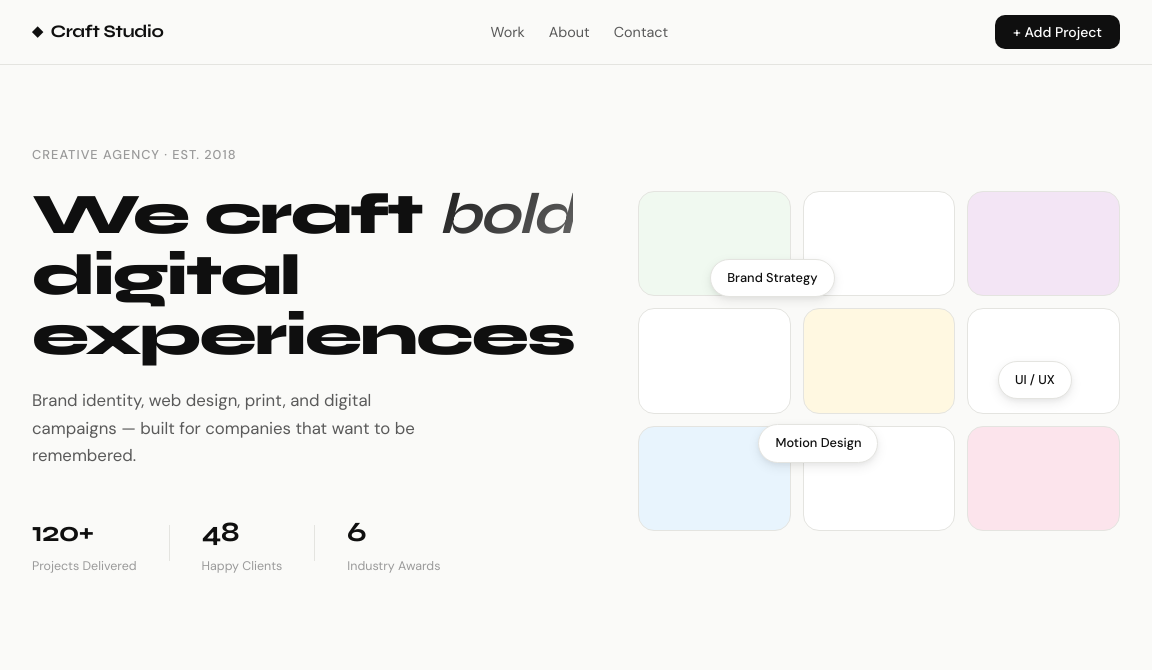
it: App integration › adds a new project and displays it on the page
Click the button "+ Add Project" at x=1058, y=32, box [995,15,1120,49]
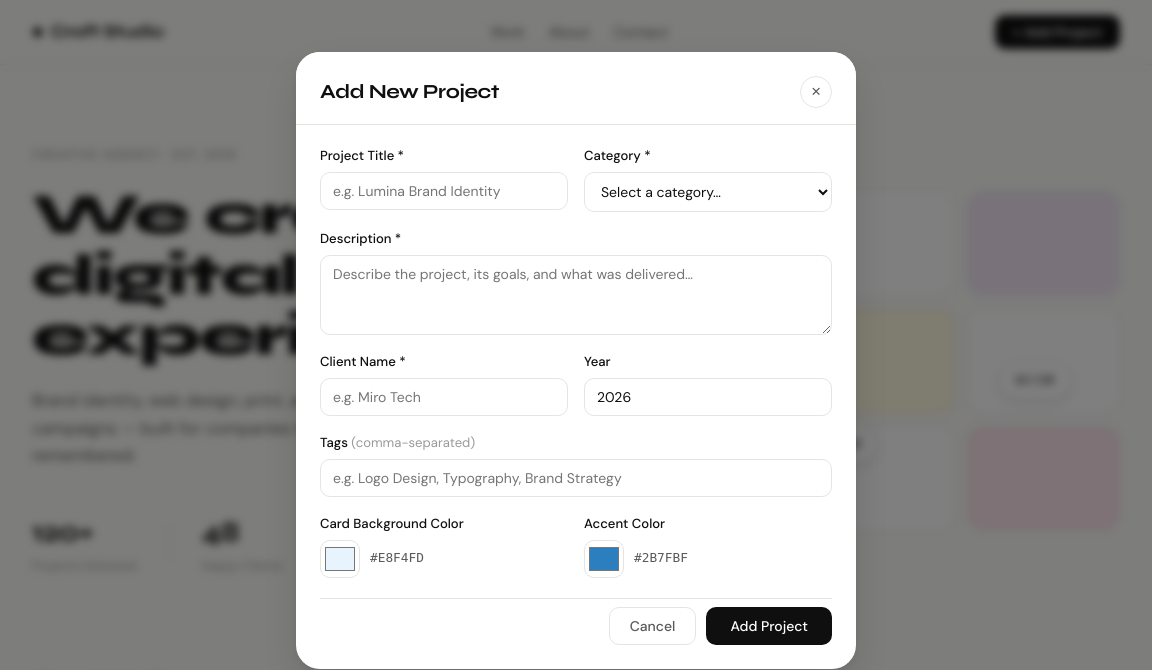
Type "My New Project" into the field labelled "Project Title *" at x=444, y=190, box [320,172,568,210]
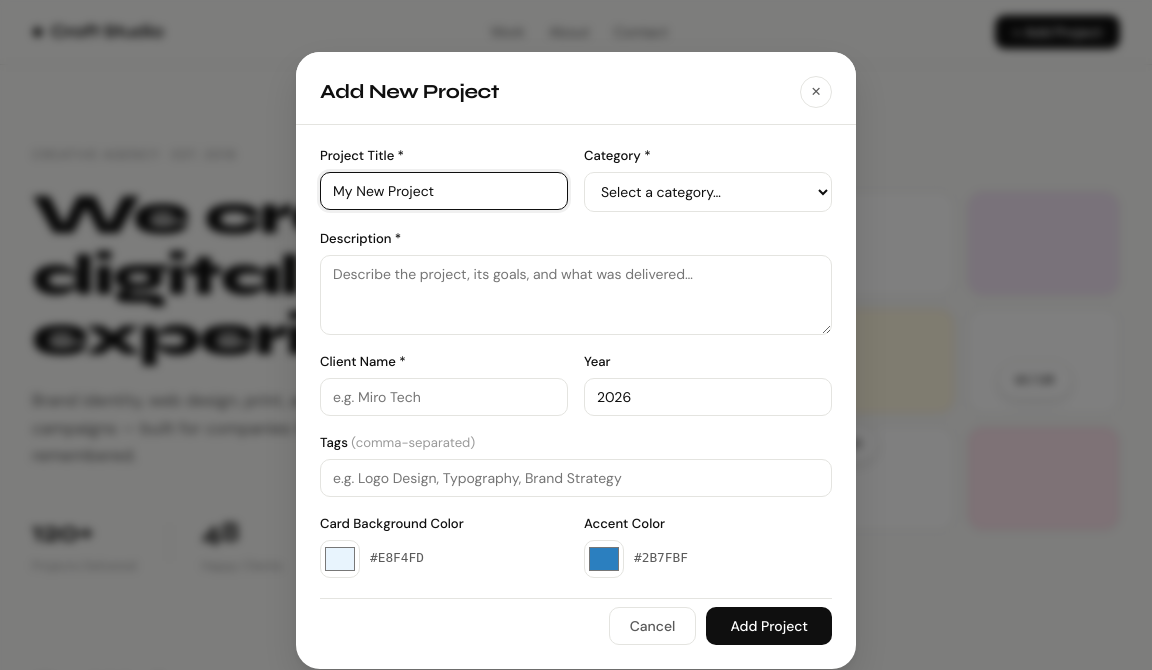
Select "Branding" in the dropdown labelled "Category *" at x=708, y=192, box [584,172,832,212]
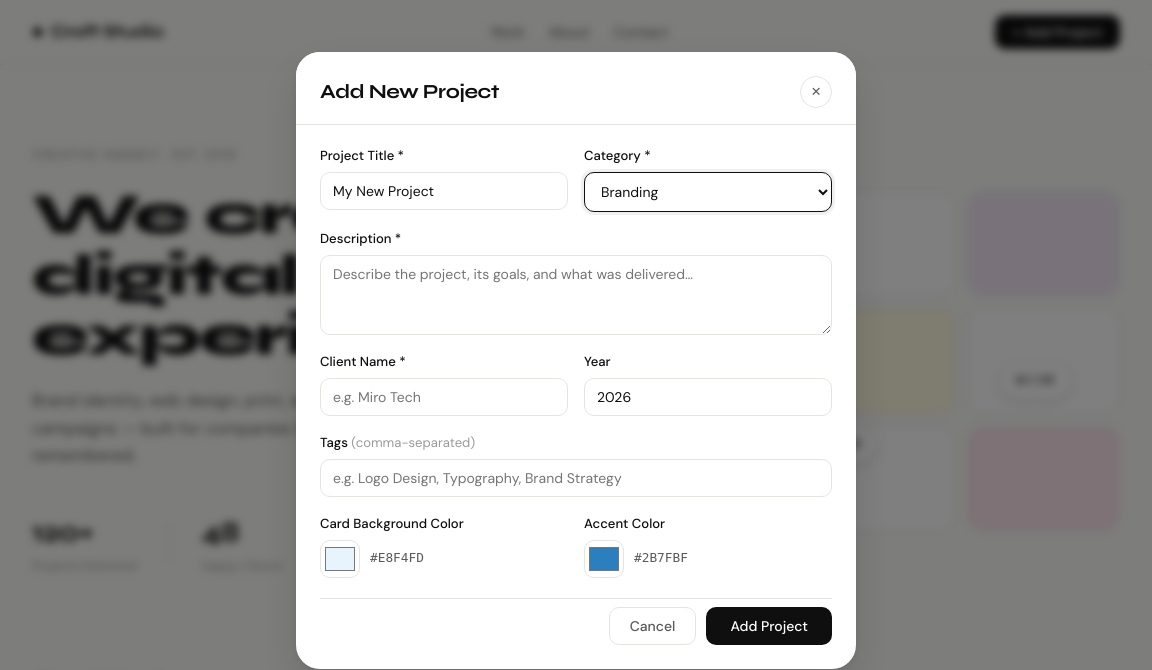
Type "A fantastic new project." into the text box labelled "Description *" at x=576, y=294, box [320,254,832,334]
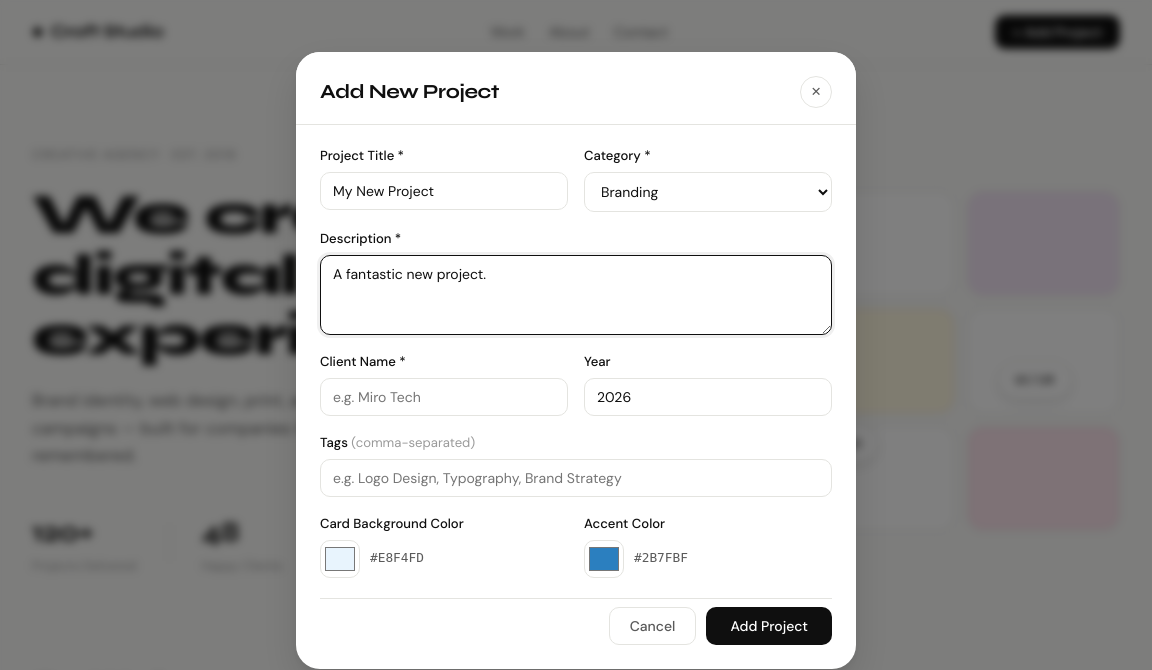
Type "New Client Ltd" into the field labelled "Client Name *" at x=444, y=396, box [320,378,568,416]
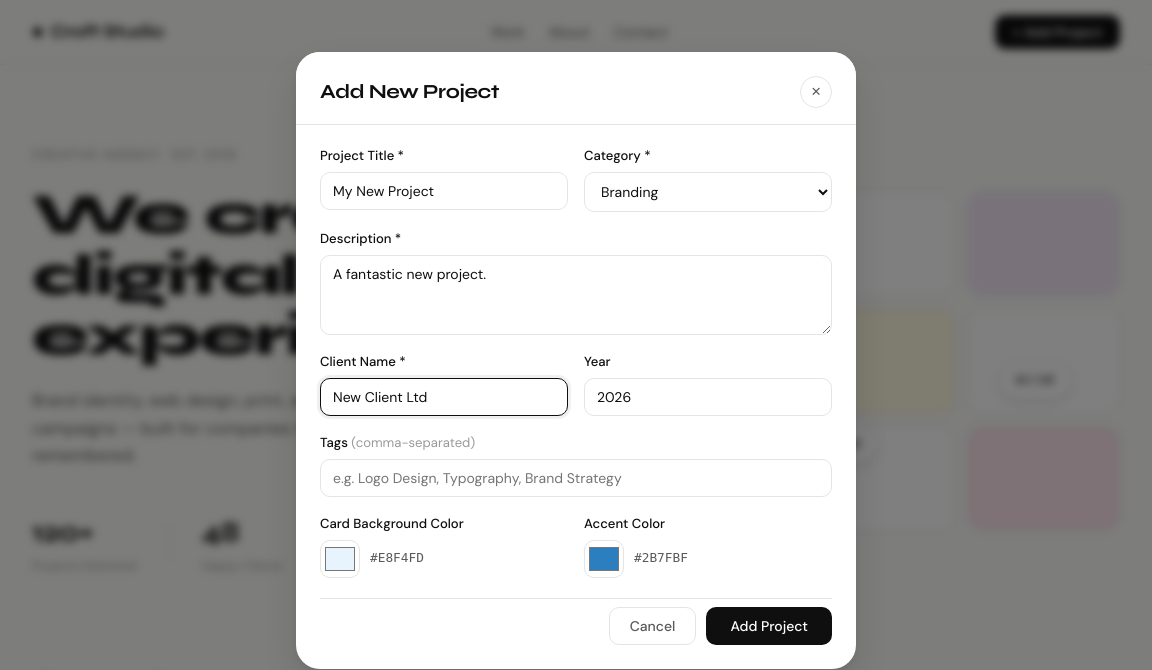
Click the button "Add Project" at x=769, y=626, box [706,606,832,644]
(page scrolled)
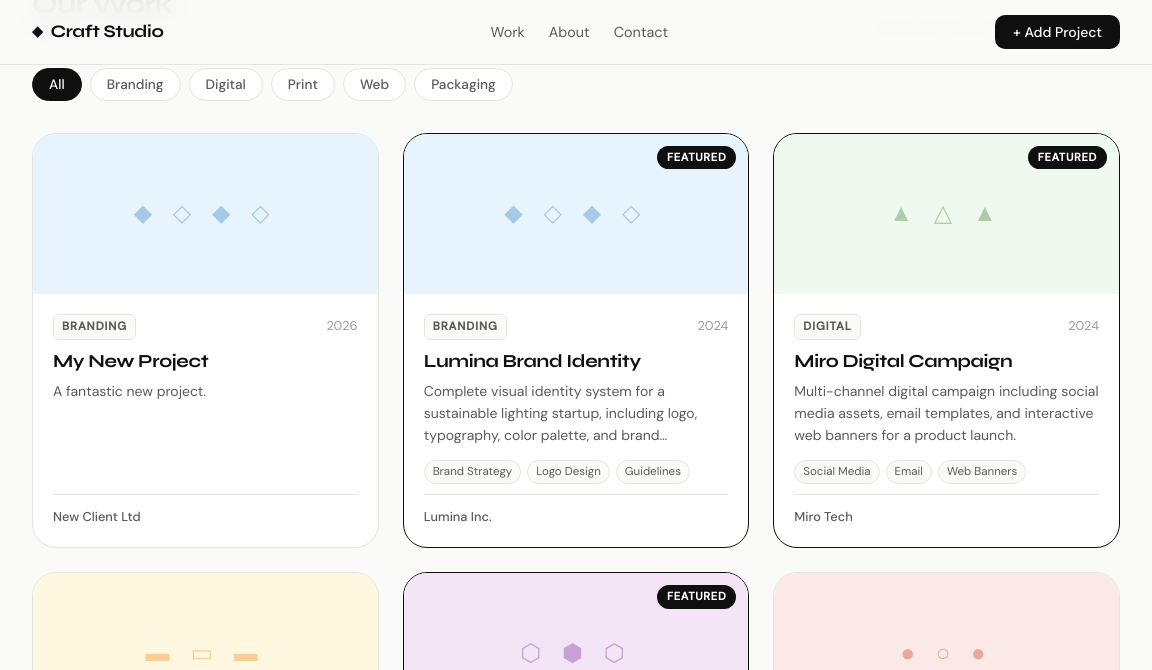
Now the heading "My New Project" is shown, box [53,350,208,372]
